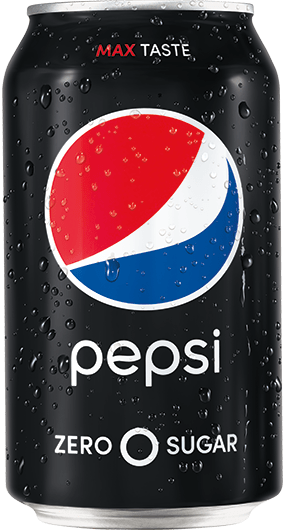pepsi: (51, 108, 248, 309), (46, 108, 240, 307), (51, 116, 248, 309), (51, 108, 240, 309), (51, 108, 240, 307)
